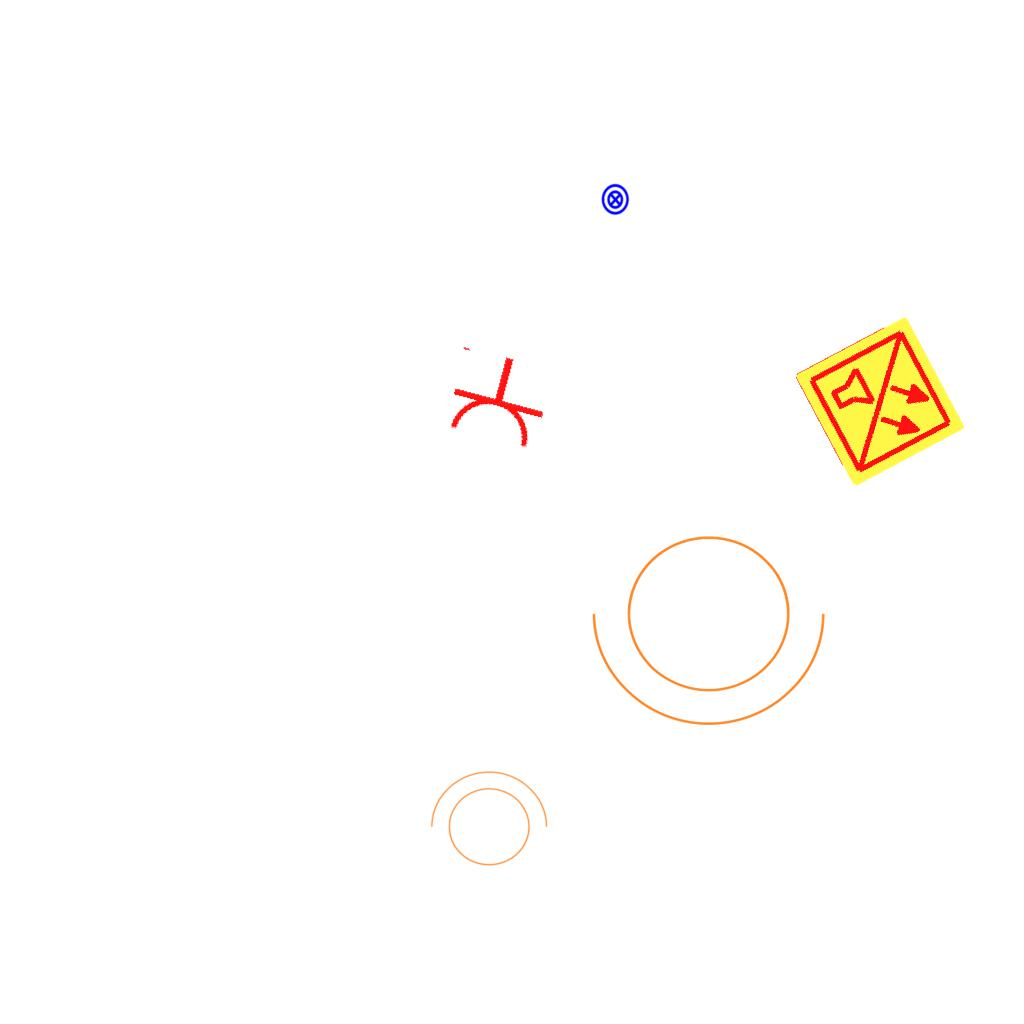OKW_Multisensormelder_(Kombination_optischer_Rauch-Kahlenmonoxid_Waerme-Melder): (790, 312, 970, 492)
Scheinwerfer_fuer_Alarmbeleuchtung: (583, 511, 847, 736), (420, 766, 552, 878)
Schukosteckdose_einfach: (437, 343, 558, 453)
Taster_beleuchtet: (599, 183, 632, 216)
